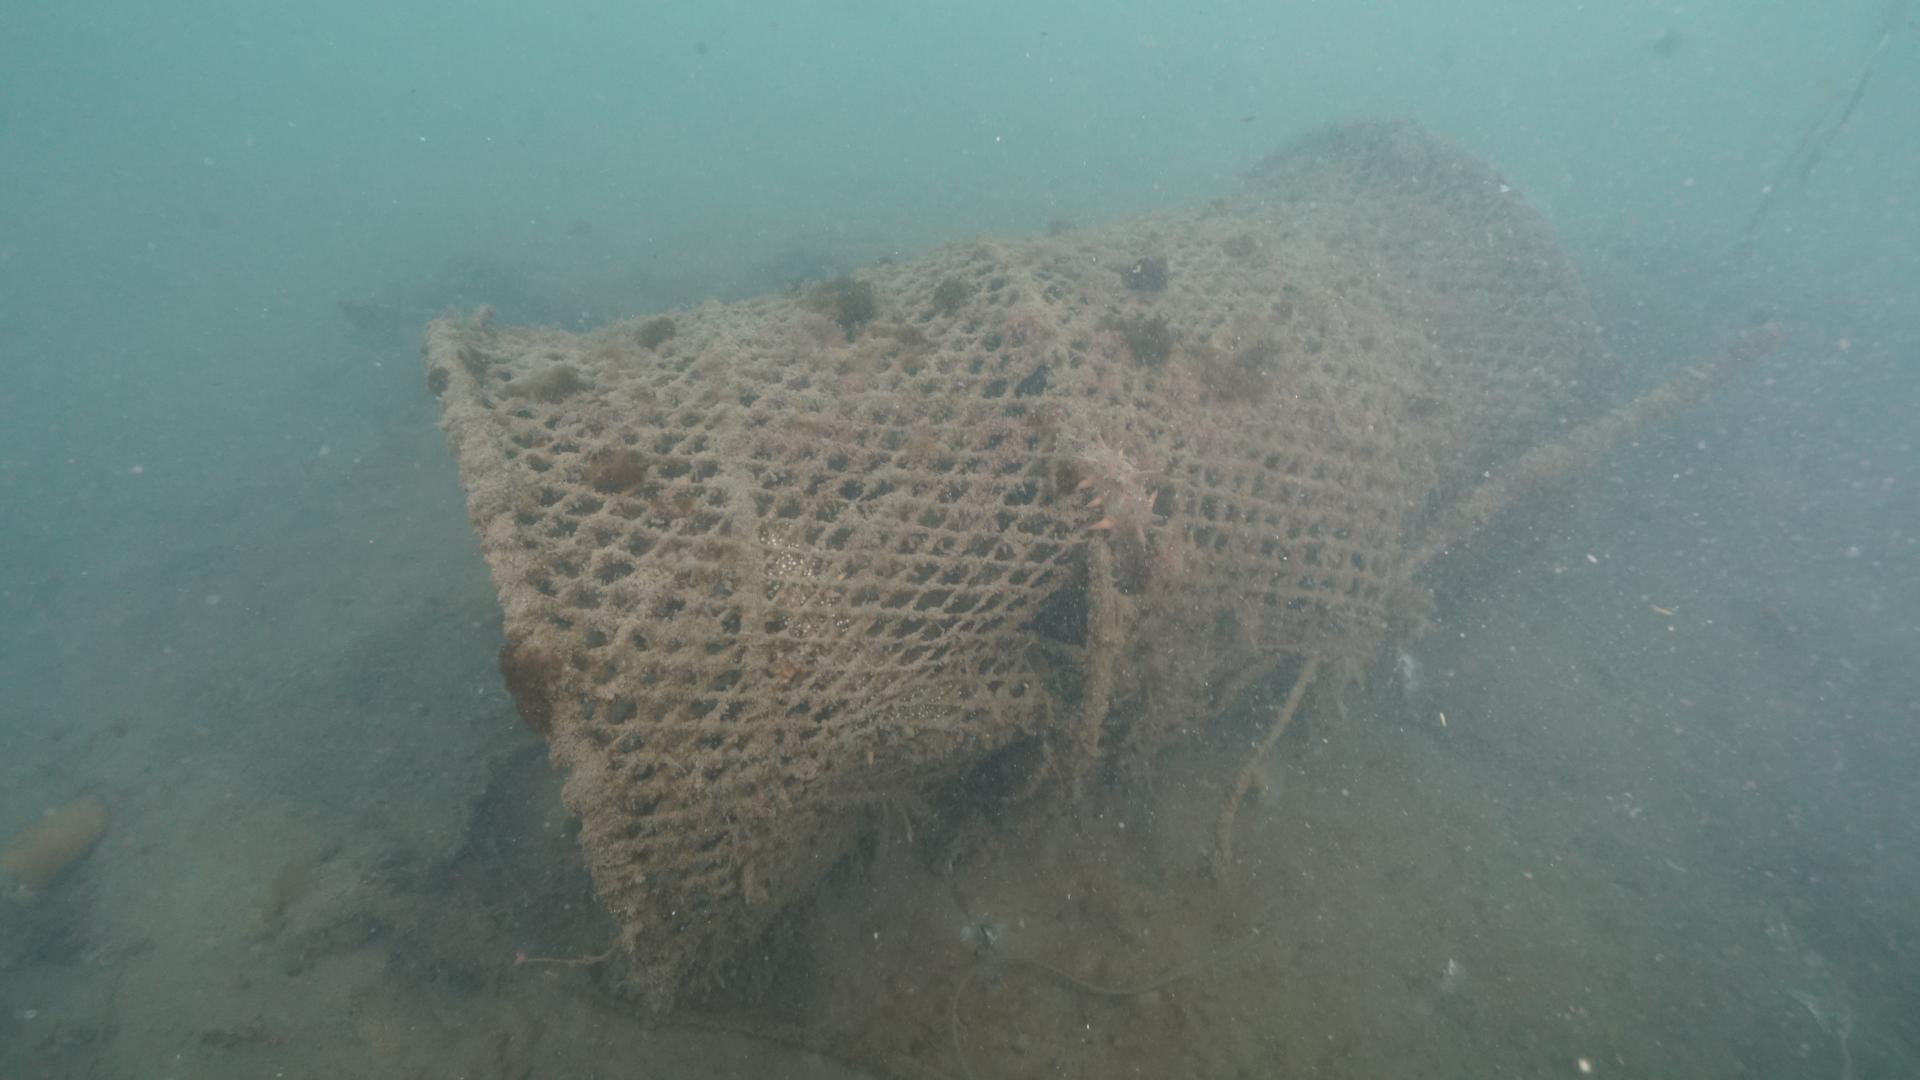spring fish trap: (411, 105, 1629, 1025)
